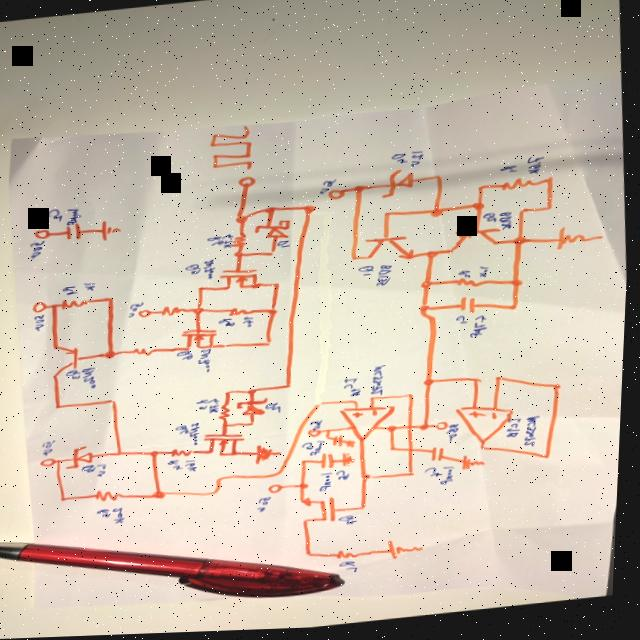capacitor: (457, 298, 482, 319), (66, 223, 86, 241), (321, 454, 340, 472), (431, 448, 448, 466), (334, 436, 347, 450)
crossover: (405, 425, 418, 435), (408, 448, 419, 458)
diode: (378, 170, 416, 201), (253, 220, 293, 244), (65, 445, 98, 471), (238, 399, 271, 420)
ground: (554, 227, 601, 254), (389, 540, 427, 562), (255, 444, 286, 467), (98, 219, 125, 242), (461, 457, 489, 475), (343, 455, 356, 468), (347, 440, 358, 451)
junction: (511, 238, 530, 250), (154, 491, 170, 504), (428, 209, 445, 221), (417, 306, 433, 318), (300, 206, 317, 217), (350, 186, 368, 196), (263, 206, 279, 217), (508, 280, 524, 291), (424, 252, 440, 262), (233, 215, 249, 225), (422, 380, 437, 390), (192, 307, 207, 317), (361, 475, 375, 485), (387, 426, 401, 436), (104, 351, 119, 360), (298, 483, 313, 492), (313, 402, 328, 411), (420, 425, 434, 434), (542, 179, 556, 188), (421, 282, 434, 291), (206, 449, 219, 457), (472, 206, 486, 213), (274, 472, 288, 479), (268, 309, 280, 317), (474, 187, 486, 195), (473, 379, 485, 387), (494, 378, 506, 386), (266, 251, 278, 259), (406, 473, 419, 480), (517, 210, 530, 217), (211, 490, 224, 497), (366, 398, 379, 405), (50, 302, 60, 311), (151, 450, 162, 458), (300, 459, 311, 467), (116, 450, 127, 458), (233, 253, 245, 260), (382, 213, 394, 220), (433, 176, 443, 184), (407, 394, 417, 402), (106, 296, 116, 304), (217, 451, 227, 459), (480, 447, 490, 455), (222, 423, 232, 431), (509, 307, 520, 314), (348, 257, 359, 264), (272, 283, 282, 290), (55, 403, 65, 410), (390, 448, 400, 455), (544, 208, 554, 215), (110, 398, 120, 405), (553, 386, 563, 393), (264, 342, 274, 349), (285, 384, 295, 391), (196, 286, 206, 293), (544, 457, 554, 464), (217, 477, 227, 484), (248, 390, 258, 397), (307, 553, 316, 560), (61, 496, 70, 502), (225, 391, 234, 397), (361, 507, 370, 513), (353, 401, 362, 407), (249, 422, 257, 428), (326, 437, 333, 443), (327, 431, 334, 436), (60, 459, 64, 463)
resistor: (498, 179, 537, 195), (94, 488, 128, 504), (453, 278, 485, 293), (337, 550, 364, 565), (159, 305, 185, 320), (59, 298, 91, 310), (226, 306, 254, 319), (171, 447, 198, 460), (219, 404, 235, 423), (132, 347, 159, 358), (231, 234, 247, 251)
terminal: (235, 176, 258, 190), (32, 227, 52, 240), (32, 300, 49, 313), (327, 191, 346, 202), (136, 309, 154, 319), (269, 485, 287, 495), (41, 458, 59, 467), (308, 431, 325, 440), (435, 424, 451, 433)
text: (524, 419, 545, 452), (371, 366, 390, 399), (374, 266, 396, 289), (342, 378, 365, 400), (470, 317, 491, 341), (197, 349, 216, 375), (79, 367, 99, 390), (524, 159, 546, 179), (187, 423, 205, 447), (507, 420, 525, 442), (496, 214, 515, 234), (28, 240, 47, 260), (319, 474, 338, 493), (64, 207, 83, 226), (443, 468, 461, 488), (303, 442, 327, 457), (202, 259, 218, 281), (43, 207, 64, 223), (41, 439, 59, 457), (341, 562, 363, 576), (446, 427, 463, 445), (408, 152, 425, 170), (317, 181, 335, 198), (114, 507, 130, 525), (186, 458, 202, 476), (390, 153, 408, 169), (258, 498, 275, 514), (127, 302, 144, 318), (222, 233, 236, 251), (204, 236, 224, 248), (33, 314, 47, 331), (475, 268, 492, 282), (186, 263, 203, 277), (209, 399, 223, 416), (267, 403, 285, 416), (217, 318, 238, 329), (498, 168, 521, 178), (62, 284, 81, 296), (169, 460, 186, 473), (356, 268, 376, 279), (98, 463, 112, 478), (197, 399, 212, 413), (177, 351, 196, 362), (427, 469, 443, 482), (82, 464, 100, 475), (98, 508, 116, 519), (241, 317, 256, 330), (482, 215, 497, 228), (66, 370, 83, 381), (344, 517, 361, 528), (311, 422, 327, 433), (176, 425, 192, 436), (339, 472, 352, 485), (277, 241, 293, 251), (458, 272, 474, 281), (83, 282, 97, 292), (456, 319, 469, 328)
transistor: (361, 234, 417, 267), (448, 228, 502, 256), (300, 496, 342, 528), (204, 432, 249, 461), (217, 268, 264, 295), (49, 344, 82, 378), (182, 327, 221, 353)
